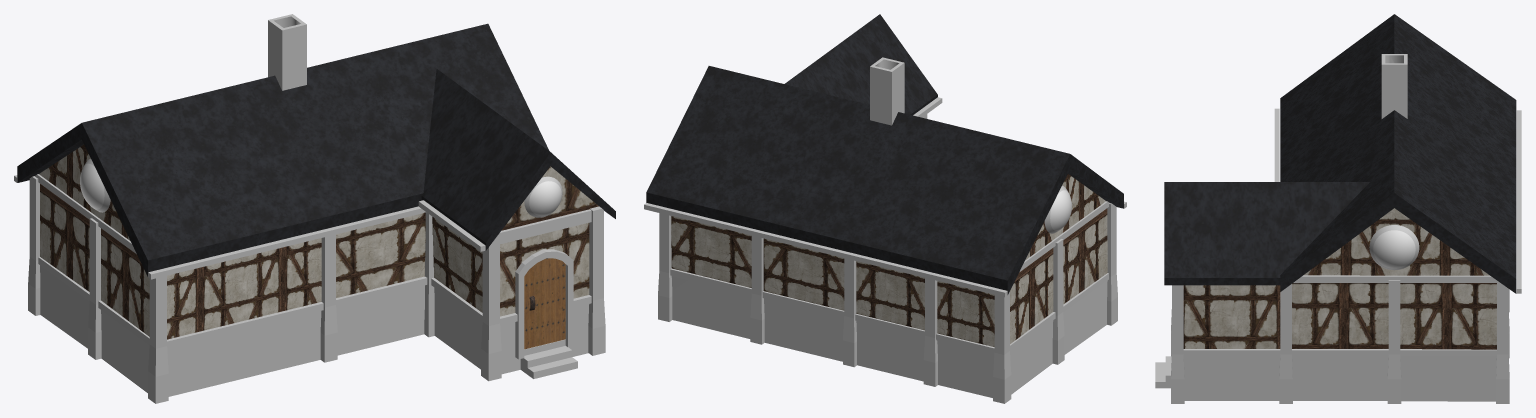
File: Casa Puerta Lateral.fbx
The picture shows the model from 3 angles, left to right: view 1: azimuth 30°, elevation 25°; view 2: azimuth 150°, elevation 25°; view 3: azimuth 270°, elevation 25°; orthographic projection. The views are drawn at different scales.
Parts seen in each view (by area): view 1: CASA_PUERTA_LATERAL_DER; view 2: CASA_PUERTA_LATERAL_DER; view 3: CASA_PUERTA_LATERAL_DER.
Boxes of the visible parts, x1=… form: CASA_PUERTA_LATERAL_DER: x1=14, y1=14, x2=615, y2=403; CASA_PUERTA_LATERAL_DER: x1=644, y1=14, x2=1126, y2=403; CASA_PUERTA_LATERAL_DER: x1=1155, y1=14, x2=1521, y2=403.
Size of the model in its own units: 1260 by 846 by 1082.
